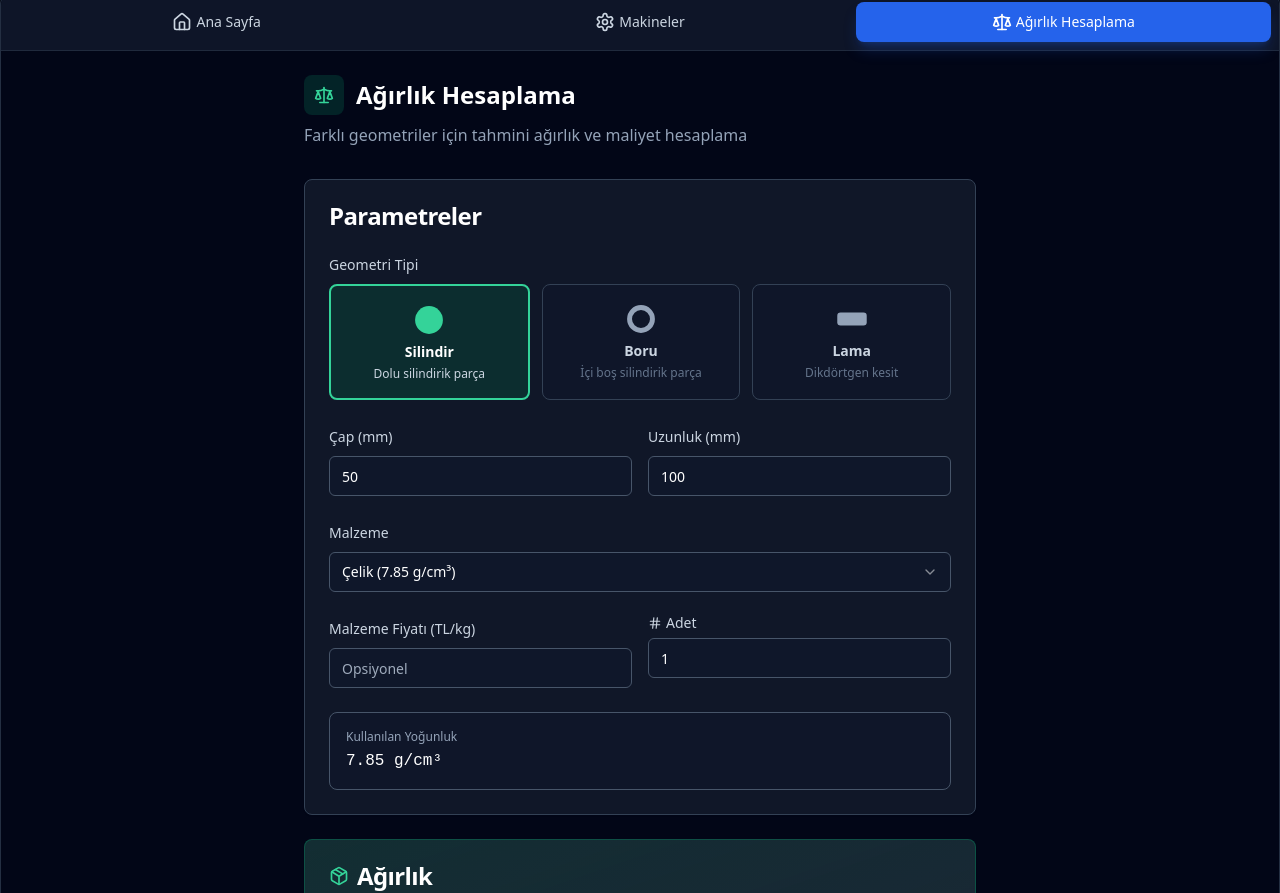
Scenario: weight calculator: live calculation matches the numerical parity fixtures › flat bar geometry w=50 h=10 l=100 steel -> 0.39 kg
Click the text "Lama" at (852, 351), box x1=832 y1=341 x2=871 y2=361
(page scrolled)
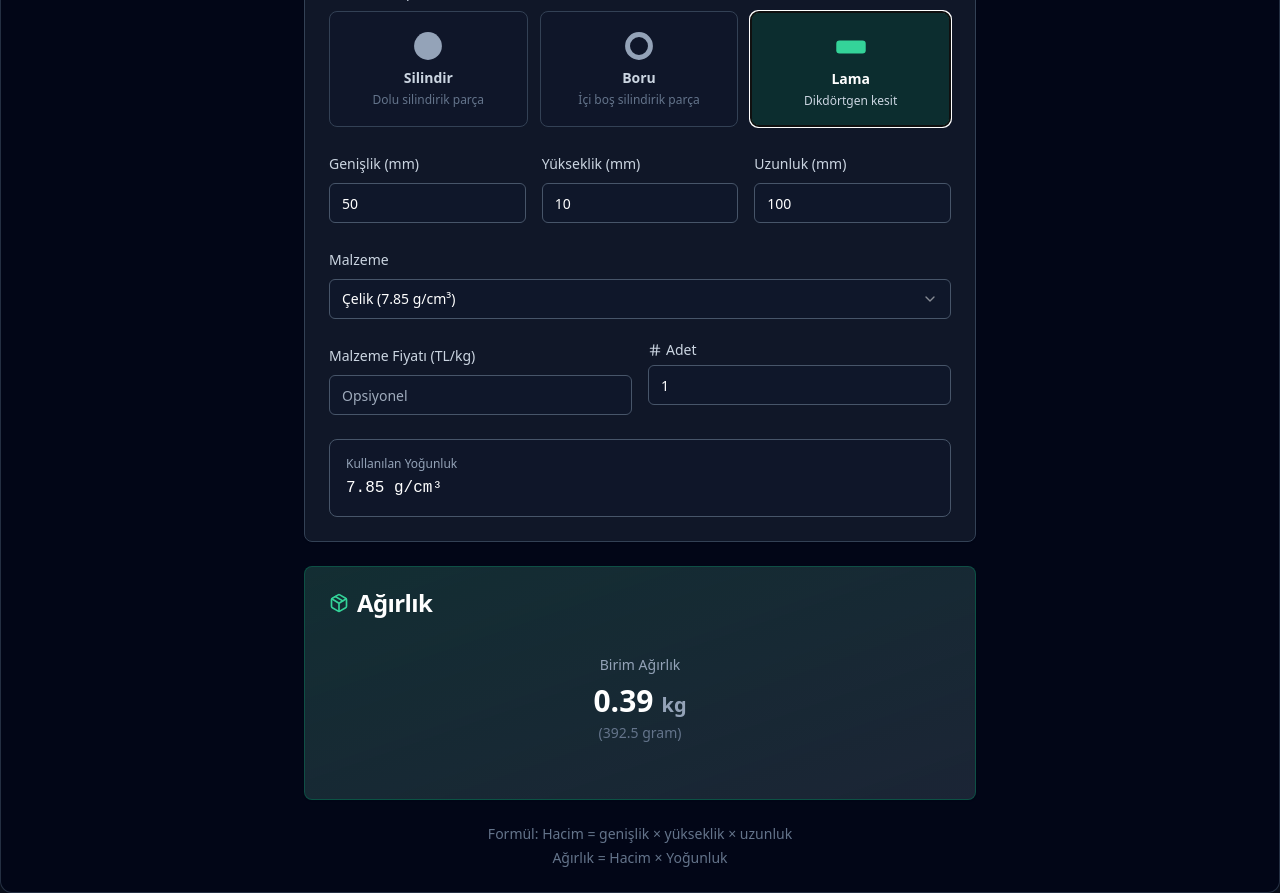
Expected: the text "0.39" is shown, x1=594 y1=680 x2=654 y2=721
